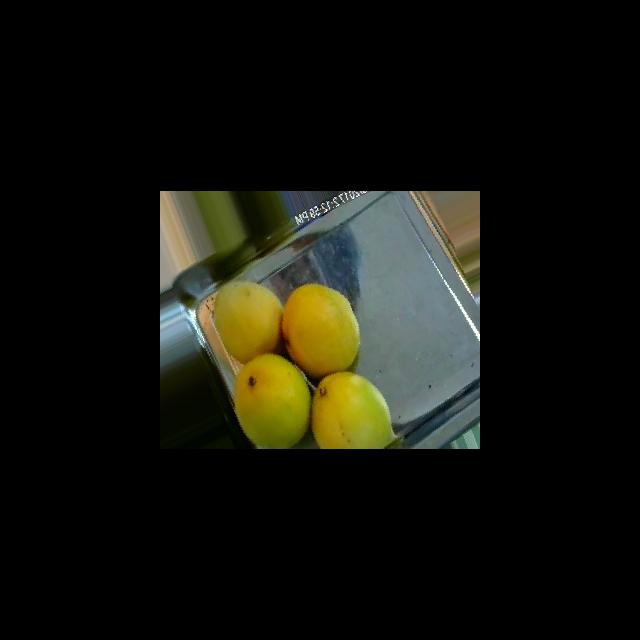mango: (281, 282, 360, 378), (233, 353, 311, 448), (311, 371, 394, 448), (213, 280, 282, 363)
